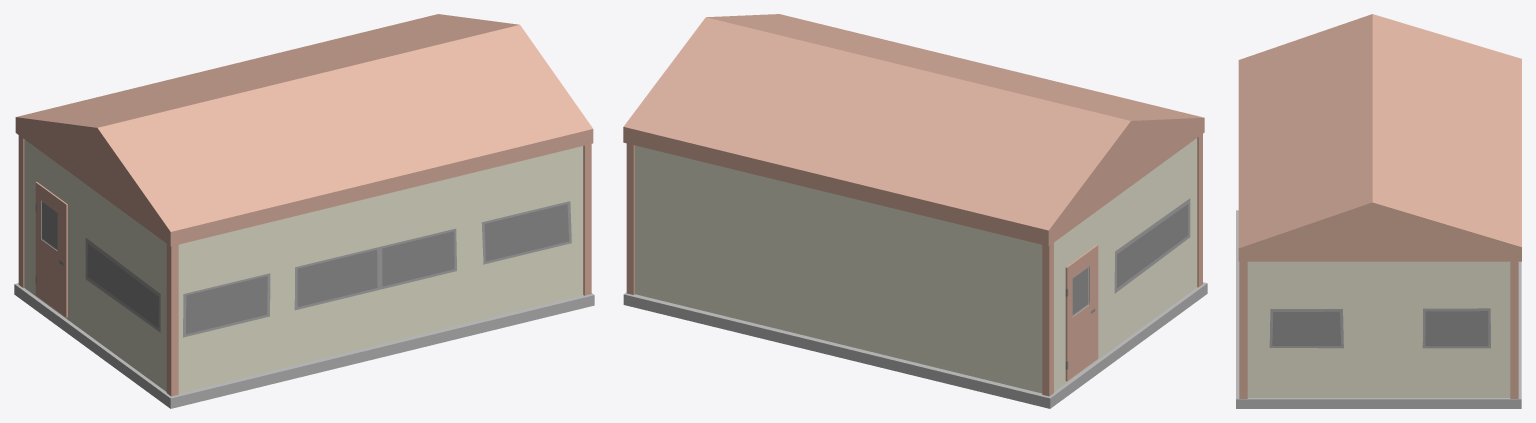
File: props.fbx
3 views of the same model, side by side, from view 1: azimuth 30°, elevation 25°; view 2: azimuth 150°, elevation 25°; view 3: azimuth 270°, elevation 25° (orthographic). The views are drawn at different scales.
Visible parts, largest first — view 1: Cube_2; view 2: Cube_2; view 3: Cube_2.
Part boxes in pixels (x1=…): Cube_2: x1=14, y1=14, x2=594, y2=408; Cube_2: x1=623, y1=14, x2=1207, y2=408; Cube_2: x1=1236, y1=14, x2=1521, y2=408.
Size of the model in its own units: 785 by 400 by 501.
